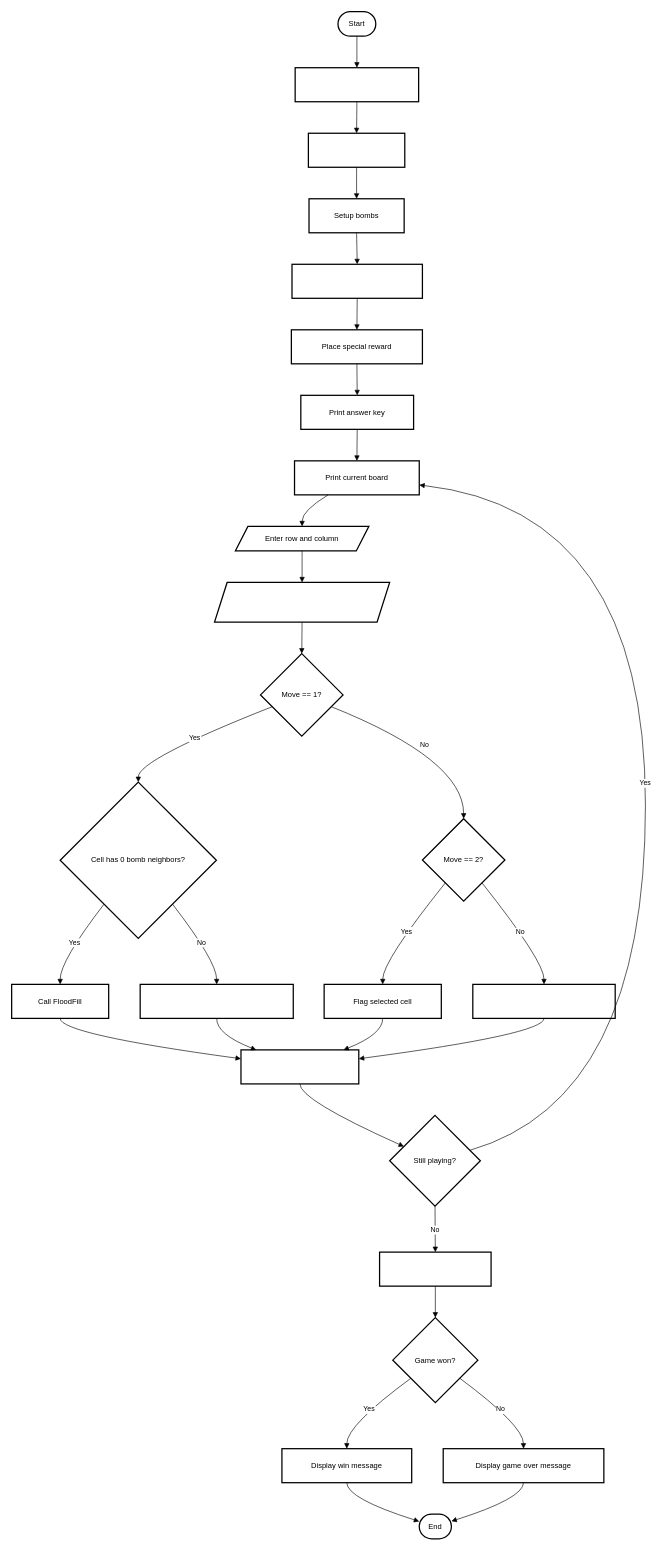
Some shapes in this 663 by 1550 pixel diagram are drawn without their labels. The shapes that lost their labels are listed below. From the top down, each one's centre as x and y in pixels, then its label:
pixel 356 84: Create BoardModel
pixel 356 150: Set difficulty
pixel 357 281: Count bombs nearby
pixel 302 601: Choose move: visit, flag, or reward
pixel 216 1001: Mark selected cell visited
pixel 544 1001: Use reward if available
pixel 299 1066: Check game state
pixel 435 1268: Print final board
